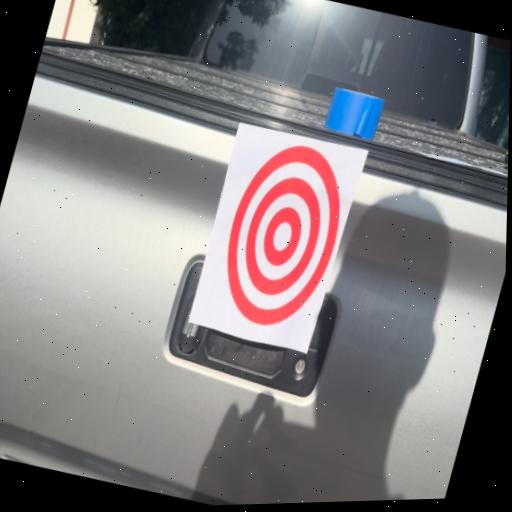bullseye: (211, 139, 357, 325)
